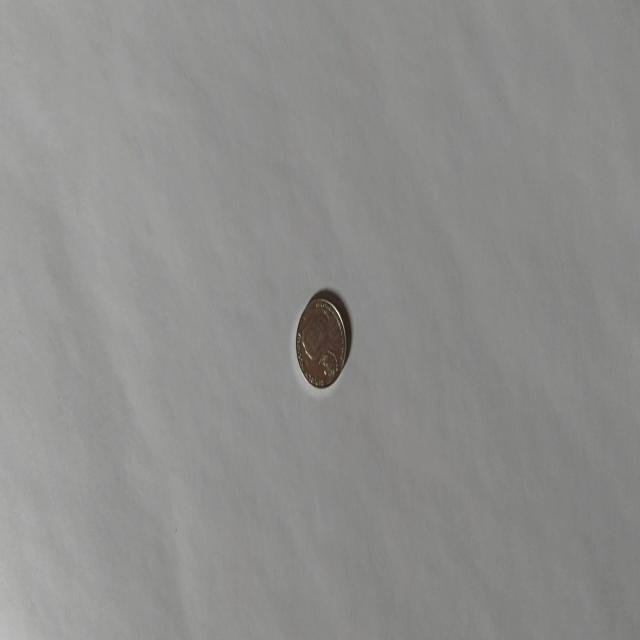seratus rupiah: (294, 295, 348, 389)
